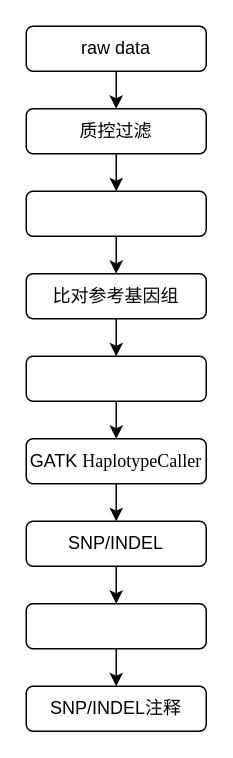
Some shapes in this 233 by 758 pixel diagram are drawn without their labels. Here are the shapes that lost their labels. From the top down, the centre of each, then its label:
[115,213]: clean data
[115,378]: mark duplication
[115,625]: SNP/INDEL过滤
